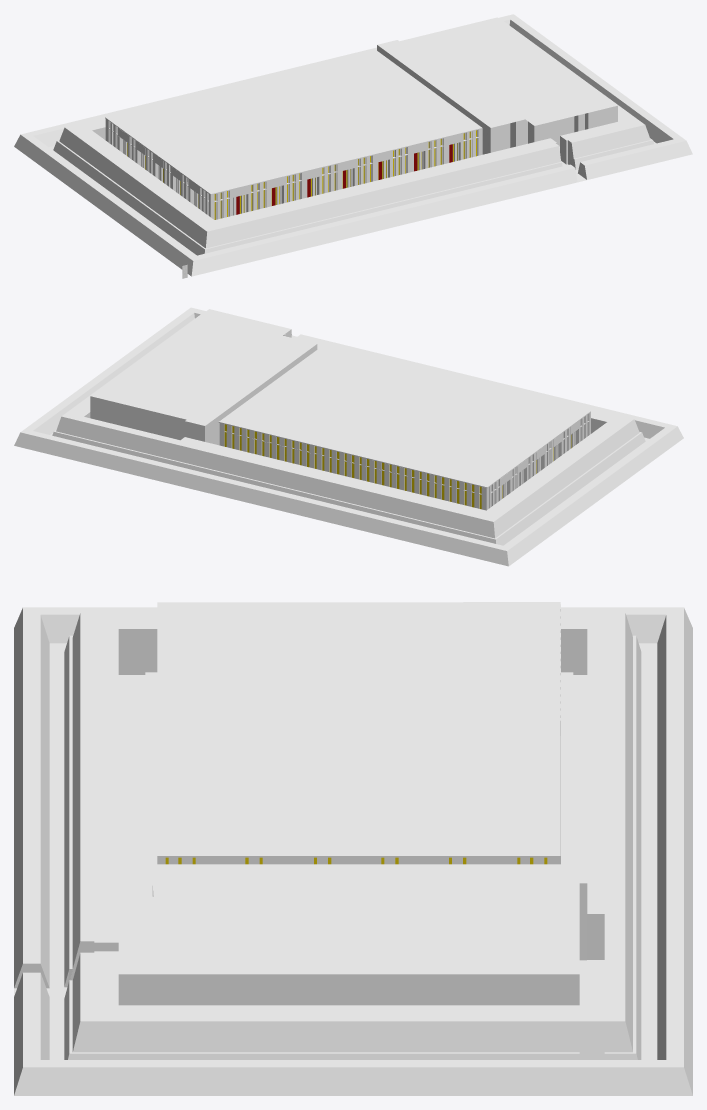
Rendered from 3505_texturesremoved.glb.
3 views of the same model, one above another, from view 1: azimuth 30°, elevation 25°; view 2: azimuth 150°, elevation 25°; view 3: azimuth 270°, elevation 25° (orthographic). The views are drawn at different scales.
Visible parts, largest first — view 1: Mesh1 Model, Mesh2 Model, Mesh3 Model; view 2: Mesh1 Model, Mesh2 Model; view 3: Mesh1 Model, Mesh2 Model, Mesh3 Model.
Boxes of the visible parts, left/top/right/bottom form: Mesh1 Model: left=14, top=14, right=692, bottom=276; Mesh2 Model: left=53, top=140, right=562, bottom=255; Mesh3 Model: left=573, top=138, right=654, bottom=169; Mesh1 Model: left=14, top=307, right=683, bottom=566; Mesh2 Model: left=52, top=430, right=645, bottom=545; Mesh1 Model: left=14, top=602, right=692, bottom=1095; Mesh2 Model: left=64, top=635, right=641, bottom=1059; Mesh3 Model: left=64, top=980, right=579, bottom=1059.
Bounding box in the file's own units: 66.38 × 5.11 × 40.
5 materials, 4 textured.
